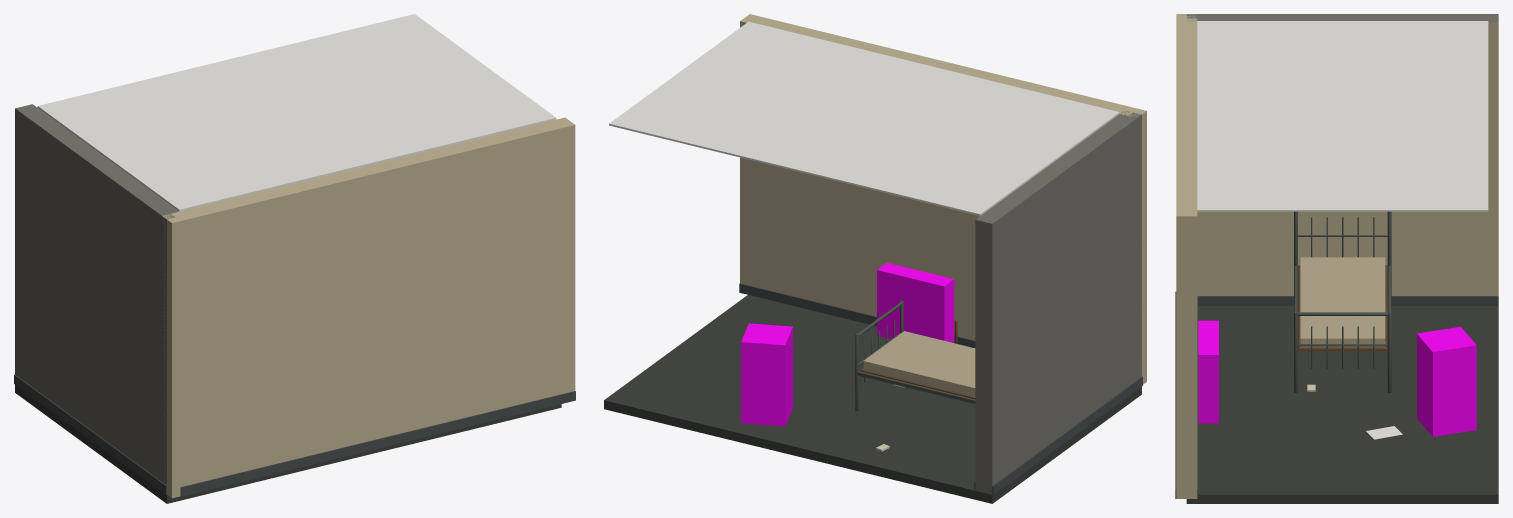
The model's file is ENV_FormerPatientRoom2.glb.
The picture shows the model from 3 angles, left to right: view 1: azimuth 30°, elevation 25°; view 2: azimuth 150°, elevation 25°; view 3: azimuth 270°, elevation 25°; orthographic projection. The views are drawn at different scales.
Visible parts, largest first — view 1: ENV_FormerPatientRoom2_Architecture, ENV_FormerPatientRoom2_Ceiling, ENV_FormerPatientRoom2_Posts; view 2: ENV_FormerPatientRoom2_Architecture, ENV_FormerPatientRoom2_Ceiling, PROP_Bed_Iron_Historic_Mesh, PROP_Chair_Wood_Historic_COL-colonly.004, PROP_Radiator_Cast_Iron_COL-colonly.004, ENV_FormerPatientRoom2_Posts; view 3: ENV_FormerPatientRoom2_Architecture, ENV_FormerPatientRoom2_Ceiling, PROP_Bed_Iron_Historic_Mesh, PROP_Chair_Wood_Historic_COL-colonly.004, PROP_Radiator_Cast_Iron_COL-colonly.004, ENV_FormerPatientRoom2_PR2_Debris.
Part boxes in pixels (x1,y1,x2,y2): ENV_FormerPatientRoom2_Architecture: (14,104,575,503); ENV_FormerPatientRoom2_Ceiling: (37,14,556,211); ENV_FormerPatientRoom2_Posts: (162,214,189,498); ENV_FormerPatientRoom2_Architecture: (604,14,1142,503); ENV_FormerPatientRoom2_Ceiling: (609,21,1119,215); PROP_Bed_Iron_Historic_Mesh: (855,300,975,411); PROP_Chair_Wood_Historic_COL-colonly.004: (741,323,792,426); PROP_Radiator_Cast_Iron_COL-colonly.004: (877,263,954,342); ENV_FormerPatientRoom2_Posts: (1120,107,1146,384); ENV_FormerPatientRoom2_Architecture: (1175,14,1498,503); ENV_FormerPatientRoom2_Ceiling: (1197,21,1488,211); PROP_Bed_Iron_Historic_Mesh: (1294,211,1391,392); PROP_Chair_Wood_Historic_COL-colonly.004: (1417,326,1476,436); PROP_Radiator_Cast_Iron_COL-colonly.004: (1198,320,1218,423); ENV_FormerPatientRoom2_PR2_Debris: (1307,384,1402,439).
Size of what is drawn, in the model's own units: 4.61 by 3.12 by 3.11.
